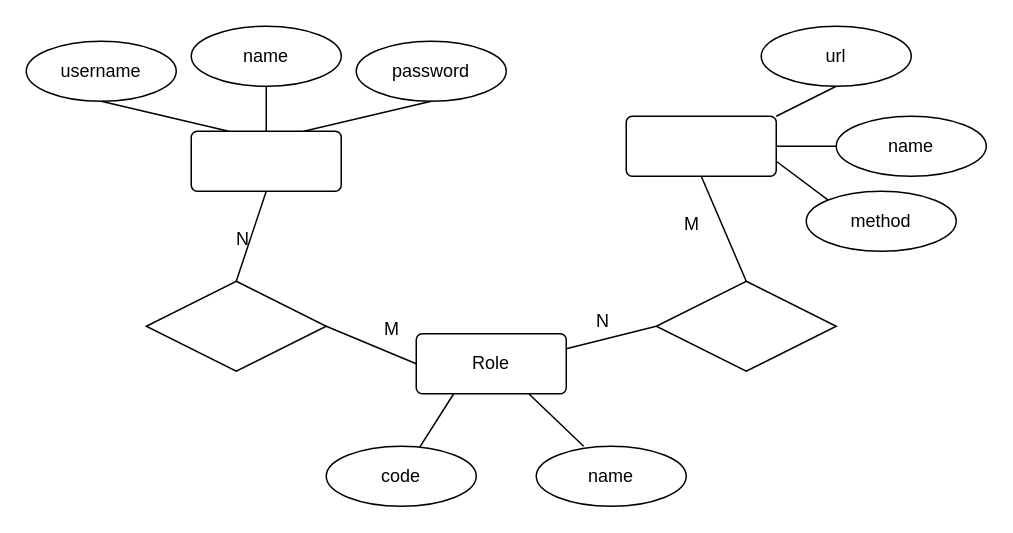
Image size: 1013x533. Some labels were removed from this diagram. Each missing label, with the centre of its shape:
Resource: the point at 700,145
Role-Resource: the point at 745,325
User: the point at 265,160
User-Role: the point at 235,325
